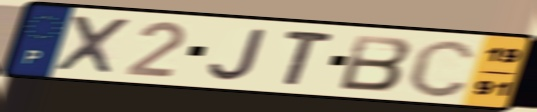2: (121, 20, 188, 80)
B: (336, 32, 415, 93)
C: (404, 37, 479, 100)
J: (206, 26, 272, 83)
T: (281, 28, 338, 88)
X: (51, 13, 134, 77)
